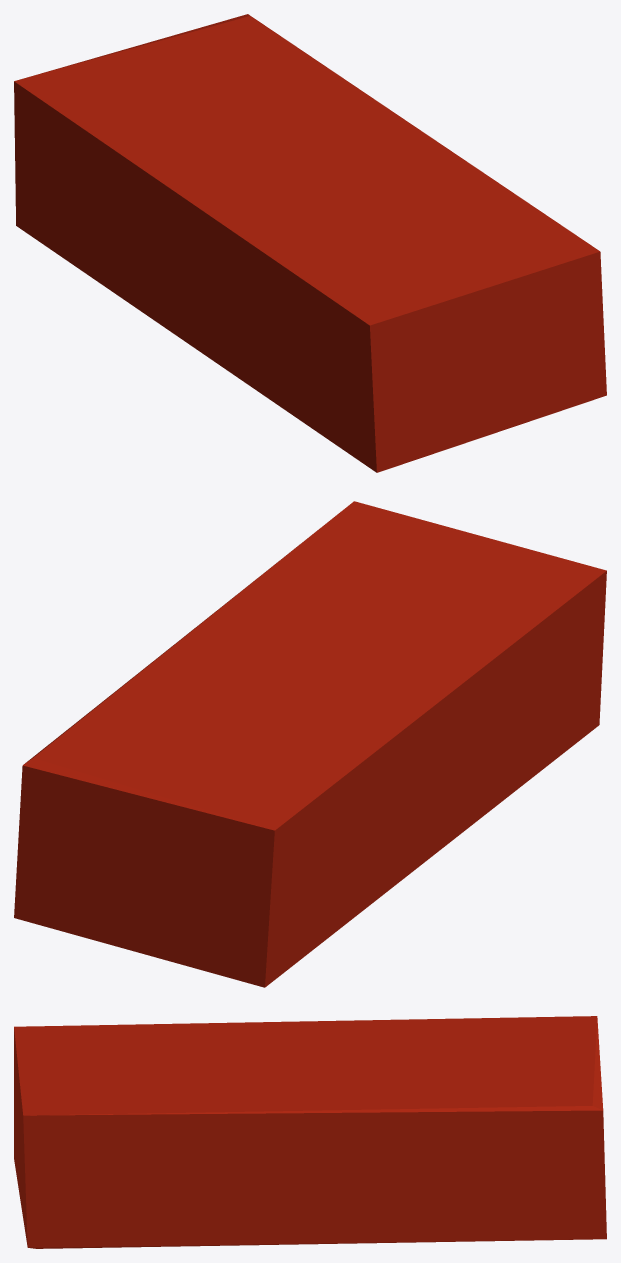
The model's file is Brick Item.fbx.
3 views of the same model, one above another, from view 1: azimuth 30°, elevation 25°; view 2: azimuth 150°, elevation 25°; view 3: azimuth 270°, elevation 25° (orthographic). The views are drawn at different scales.
Parts seen in each view (by area): view 1: Brick; view 2: Brick; view 3: Brick.
Part boxes in pixels (x1,y1,x2,y2): Brick: (14, 14, 606, 472); Brick: (14, 501, 606, 987); Brick: (14, 1016, 606, 1248).
Size of the model in its own units: 124 by 72.48 by 277.
